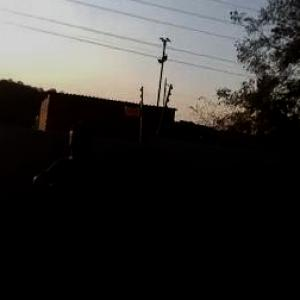follow: (26, 119, 110, 299)
